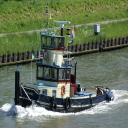tugboat: (15, 20, 117, 115)
